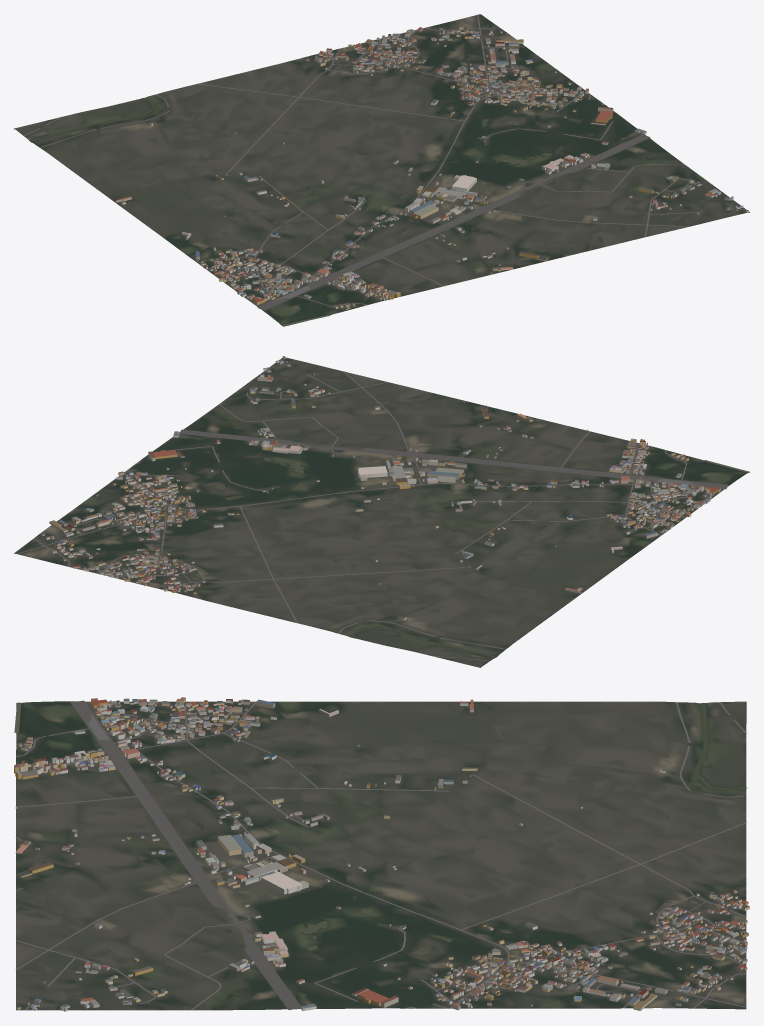
The picture shows the model from 3 angles, top to bottom: view 1: azimuth 30°, elevation 25°; view 2: azimuth 150°, elevation 25°; view 3: azimuth 270°, elevation 25°; orthographic projection. The views are drawn at different scales.
Visible parts, largest first — view 1: ground, buildings, roads, water; view 2: ground, buildings, roads, water; view 3: ground, buildings, roads, water.
Part boxes in pixels (<box>): ground: <box>14,14,749,326</box>; buildings: <box>115,26,748,309</box>; roads: <box>23,14,746,310</box>; water: <box>29,98,551,326</box>; ground: <box>14,357,749,667</box>; buildings: <box>41,356,720,620</box>; roads: <box>16,359,728,661</box>; water: <box>214,457,749,657</box>; ground: <box>16,701,746,1010</box>; buildings: <box>14,697,749,1011</box>; roads: <box>15,700,746,1010</box>; water: <box>14,702,747,955</box>.
Size of the model in its own units: 1421 by 24.58 by 1413.
